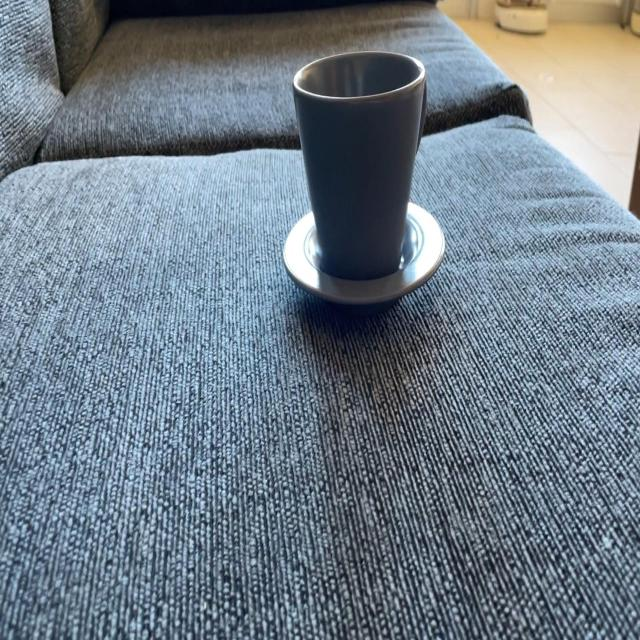cup: (289, 49, 440, 292)
